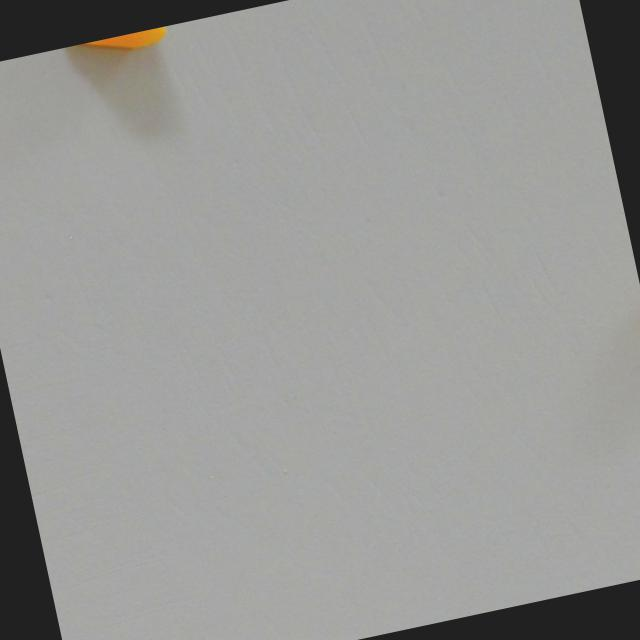pelicula: (63, 26, 170, 66)
